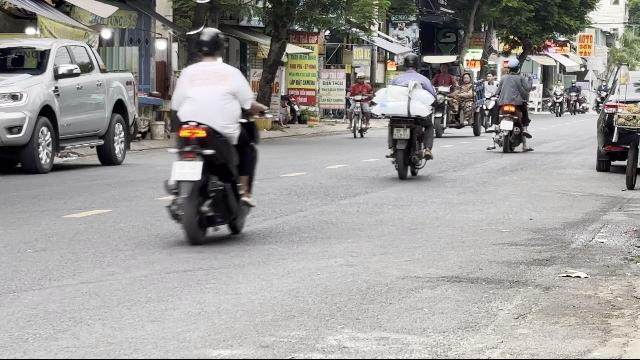helmet: (192, 26, 225, 60), (402, 52, 420, 72)
licenseplate: (172, 162, 202, 180), (393, 128, 409, 140)
motorcyclist: (163, 26, 263, 242), (371, 51, 437, 178)
